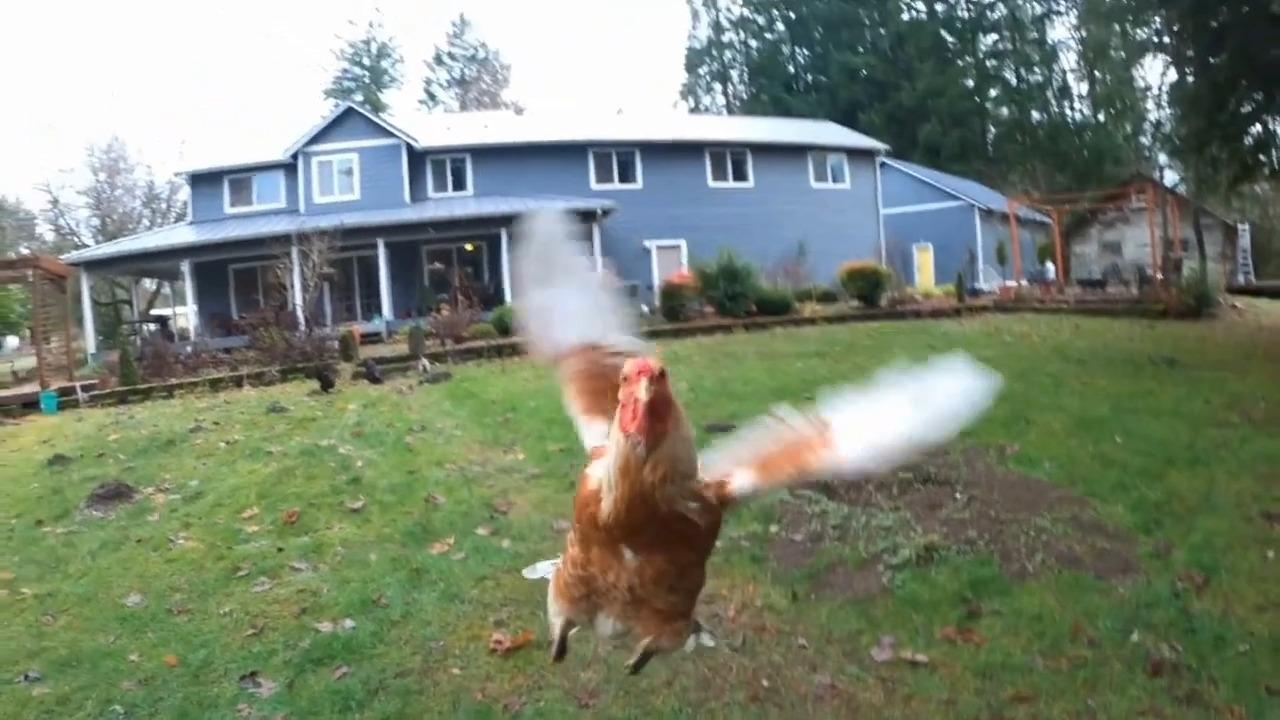Normal: (486, 198, 944, 668)
